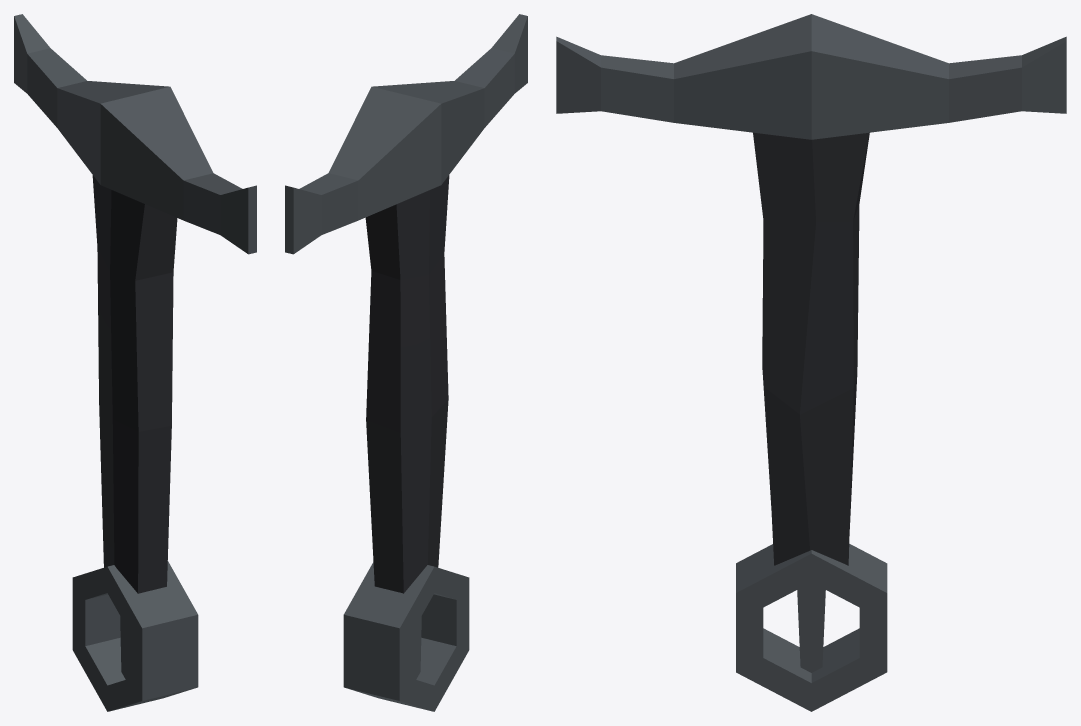
Rendered from kingdom_SM_Wep_Mod_Dagger_Hilt_05.gltf.
The picture shows the model from 3 angles, left to right: view 1: azimuth 30°, elevation 25°; view 2: azimuth 150°, elevation 25°; view 3: azimuth 270°, elevation 25°; orthographic projection. The views are drawn at different scales.
Parts seen in each view (by area): view 1: SM_Wep_Mod_Dagger_Hilt_05; view 2: SM_Wep_Mod_Dagger_Hilt_05; view 3: SM_Wep_Mod_Dagger_Hilt_05.
Part boxes in pixels (x1,y1,x2,y2): SM_Wep_Mod_Dagger_Hilt_05: (14,14,256,711); SM_Wep_Mod_Dagger_Hilt_05: (285,14,527,711); SM_Wep_Mod_Dagger_Hilt_05: (556,14,1066,711).
Size of the model in its own units: 0.0383 by 0.3198 by 0.2226.
1 material, 1 textured.
